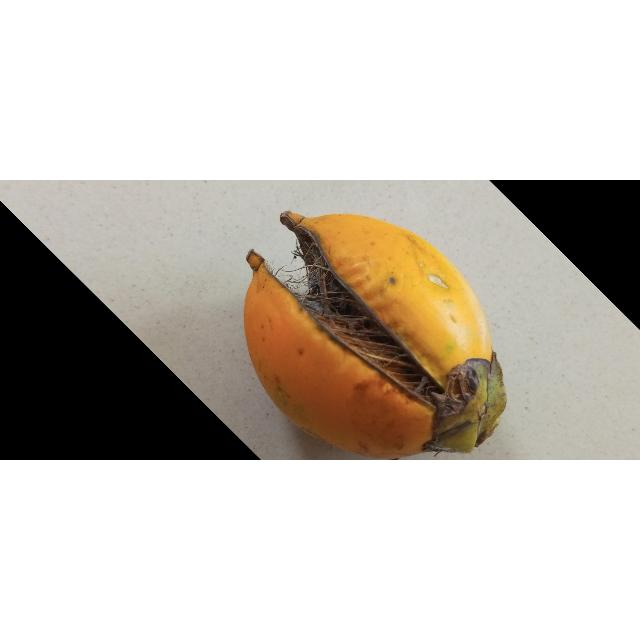damaged: (244, 212, 508, 460)
